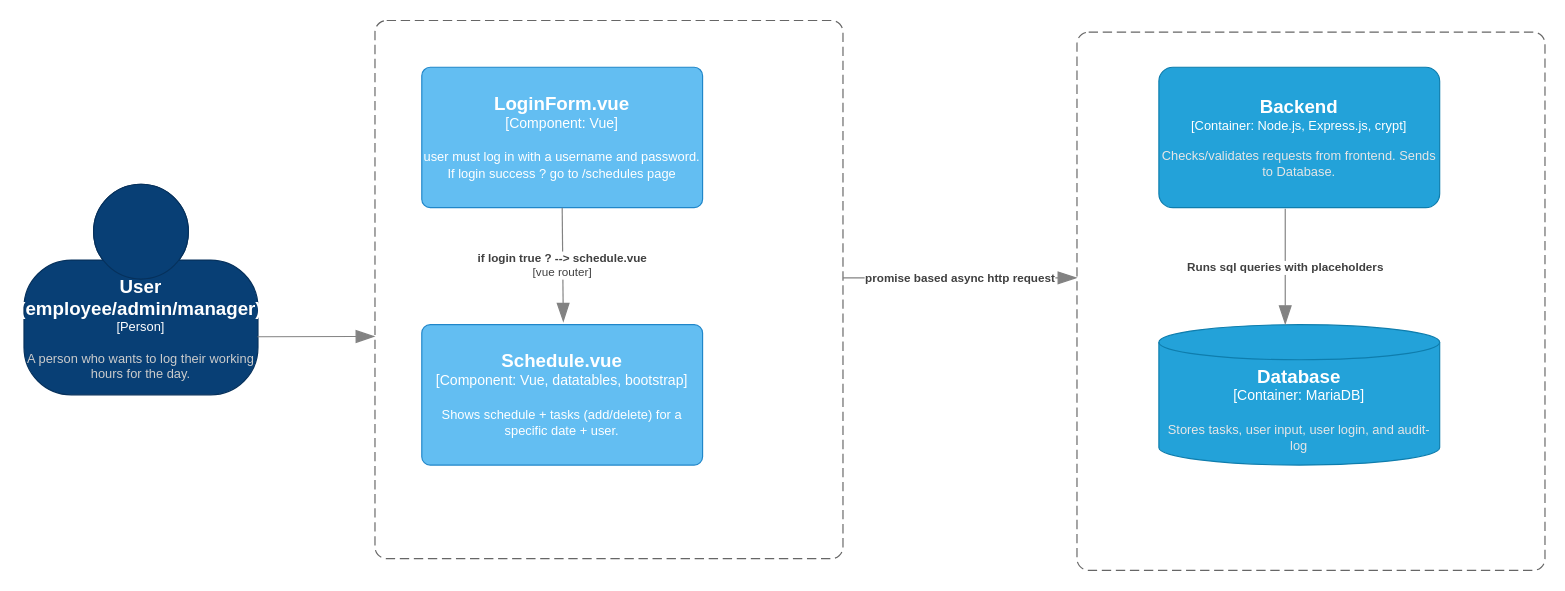
Some shapes in this 1565 by 591 pixel diagram are drawn without their labels. The box of each missing label's shape, as (x1, y1, x2, y2) in pixels:
Backend [Express.js + MariaDB]: (1076, 31, 1545, 570)
Frontend [Vue/Vite]: (374, 19, 843, 559)
